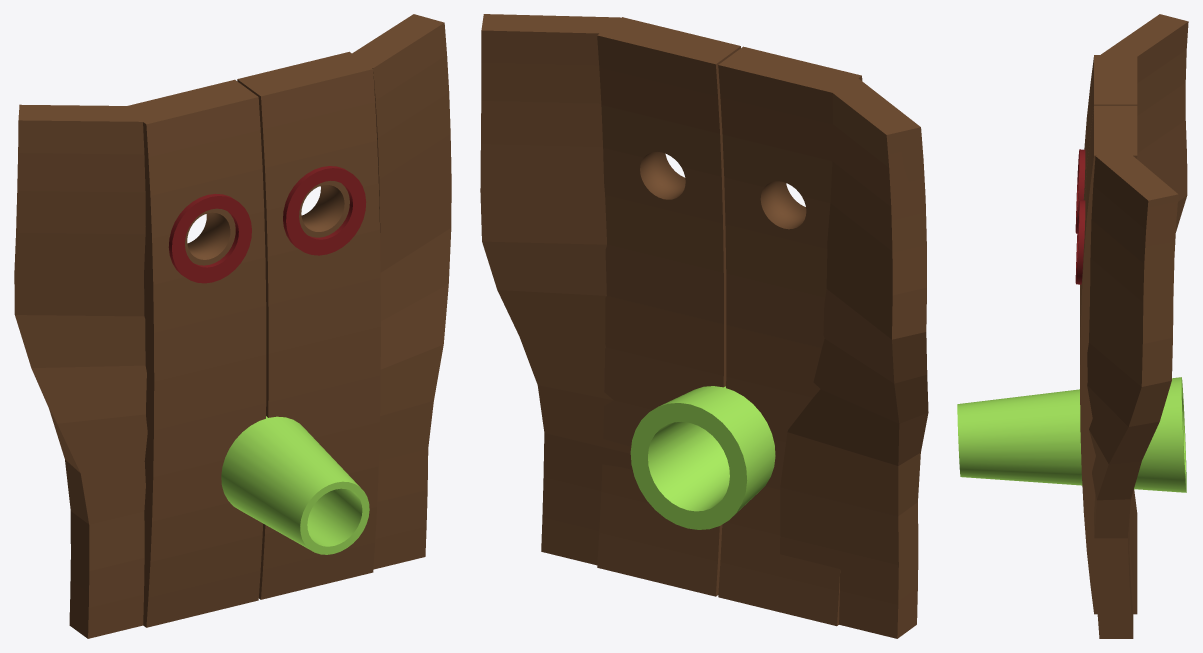
The model's file is Maschera.fbx.
3 views of the same model, side by side, from view 1: azimuth 30°, elevation 25°; view 2: azimuth 150°, elevation 25°; view 3: azimuth 270°, elevation 25° (orthographic). The views are drawn at different scales.
Parts seen in each view (by area): view 1: Maschera.001, Maschera.000, Maschera.002, Maschera.003, Cerbottana, Occhio.003, Occhio.002; view 2: Maschera.000, Maschera.002, Maschera.003, Maschera.001, Cerbottana; view 3: Maschera.003, Cerbottana, Maschera.000, Maschera.002, Maschera.001, Occhio.003, Occhio.002.
Part boxes in pixels (x1=…): Maschera.001: x1=123, y1=79, x2=266, y2=627; Maschera.000: x1=14, y1=104, x2=147, y2=638; Maschera.002: x1=237, y1=51, x2=380, y2=599; Maschera.003: x1=352, y1=14, x2=451, y2=569; Cerbottana: x1=221, y1=416, x2=369, y2=554; Occhio.003: x1=283, y1=166, x2=366, y2=255; Occhio.002: x1=168, y1=193, x2=251, y2=283; Maschera.000: x1=780, y1=78, x2=928, y2=638; Maschera.002: x1=597, y1=17, x2=740, y2=596; Maschera.003: x1=480, y1=14, x2=632, y2=565; Maschera.001: x1=718, y1=46, x2=862, y2=626; Cerbottana: x1=630, y1=386, x2=775, y2=529; Maschera.003: x1=1087, y1=150, x2=1178, y2=638; Cerbottana: x1=957, y1=377, x2=1186, y2=492; Maschera.000: x1=1098, y1=14, x2=1188, y2=232; Maschera.002: x1=1080, y1=105, x2=1137, y2=614; Maschera.001: x1=1080, y1=55, x2=1137, y2=562; Occhio.003: x1=1075, y1=200, x2=1085, y2=284; Occhio.002: x1=1075, y1=149, x2=1085, y2=233.
Size of the model in its own units: 2.67 by 3 by 1.37.
